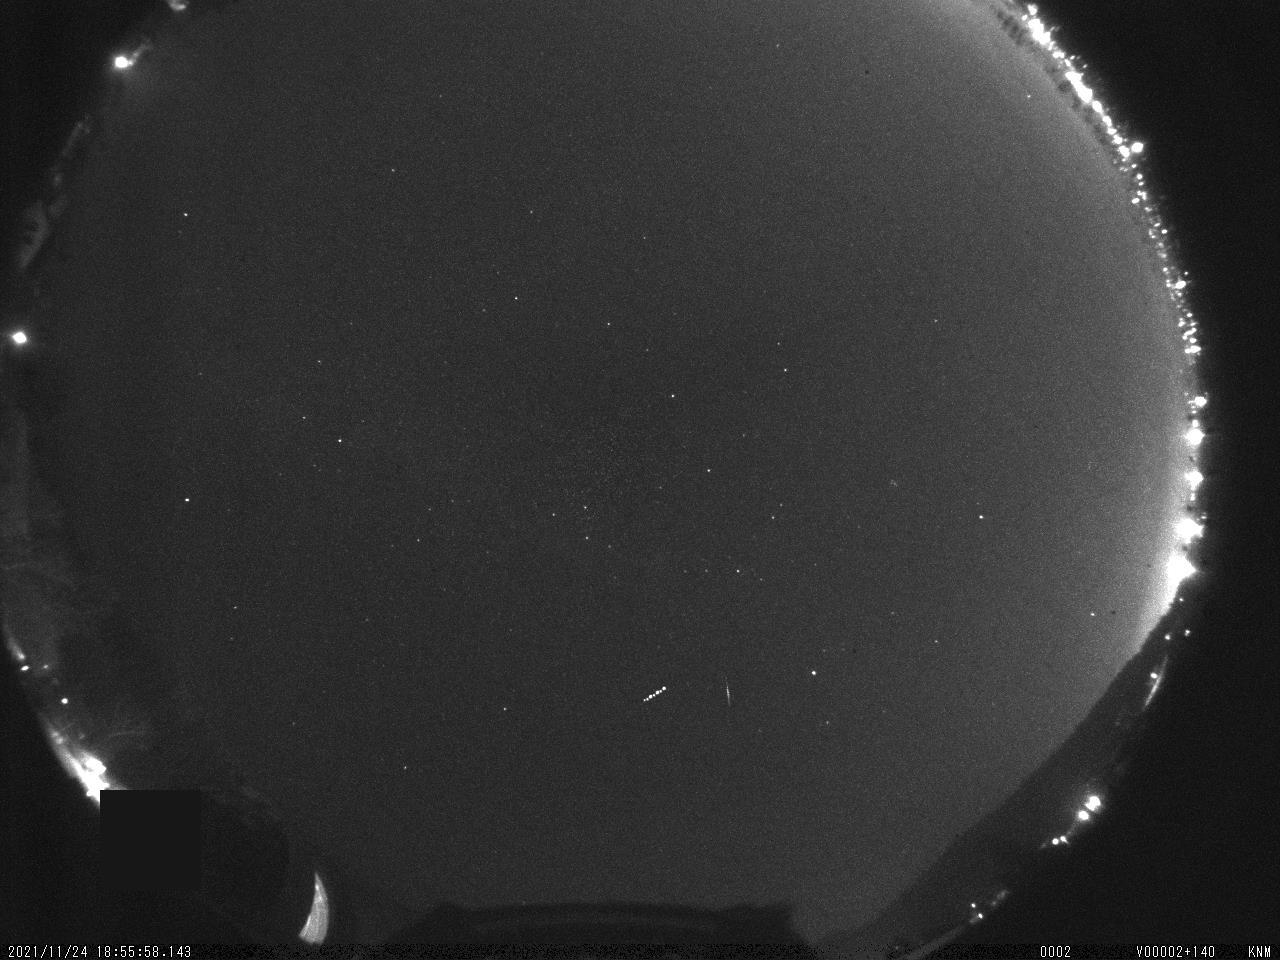meteor: (714, 668, 740, 710)
